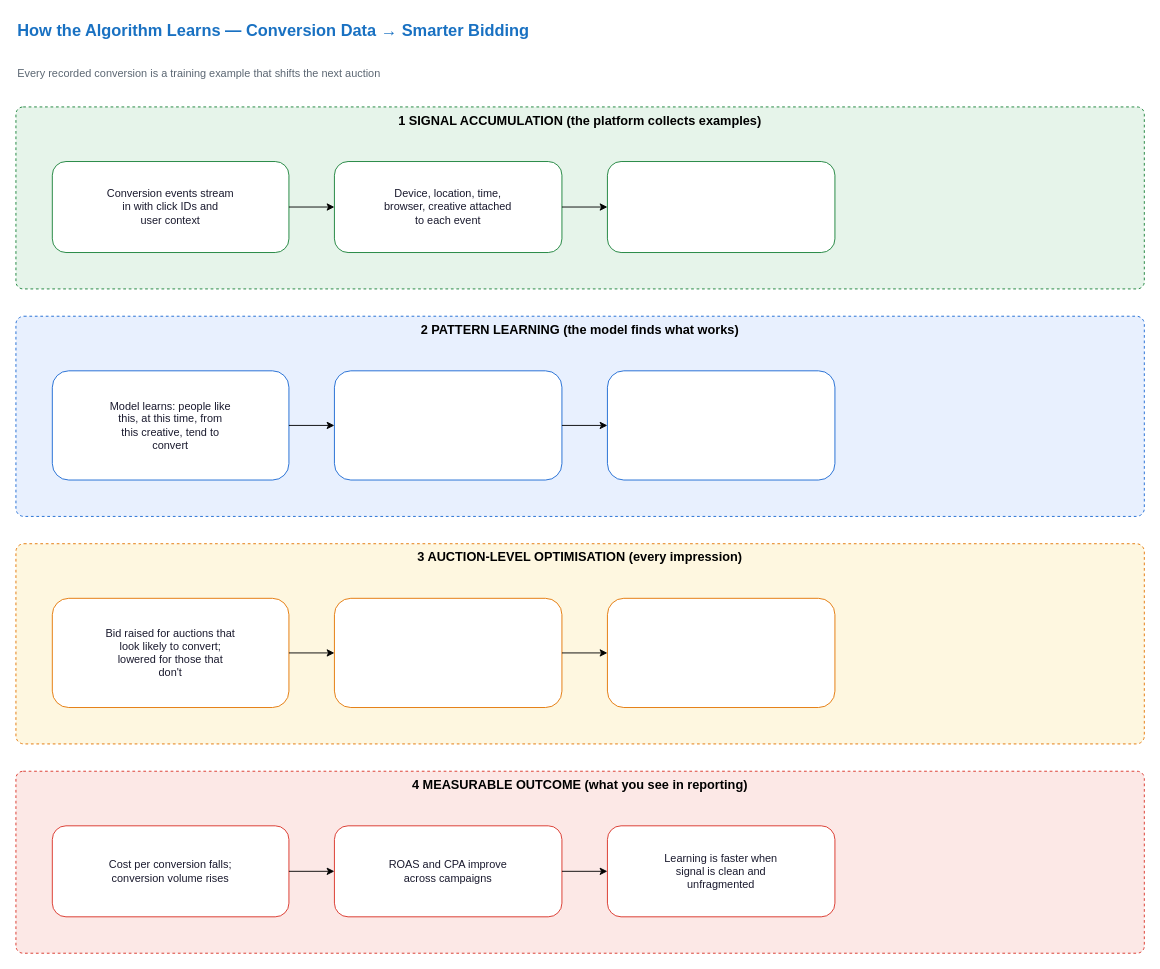
Image size: 1160x969. Some labels were removed from this diagram. The centre of each missing label's shape, as x and y in pixels:
"Ad delivery weighted toward users who resemble converters" goes at [448,652].
"Builds lookalike and similar-audience seeds from converters" goes at [448,425].
"Data grouped by campaign, ad set, ad, and audience" goes at [721,207].
"Learns which search queries, interests and placements drive value" goes at [721,425].
"Poor-performing queries or placements get suppressed over time" goes at [721,652].
